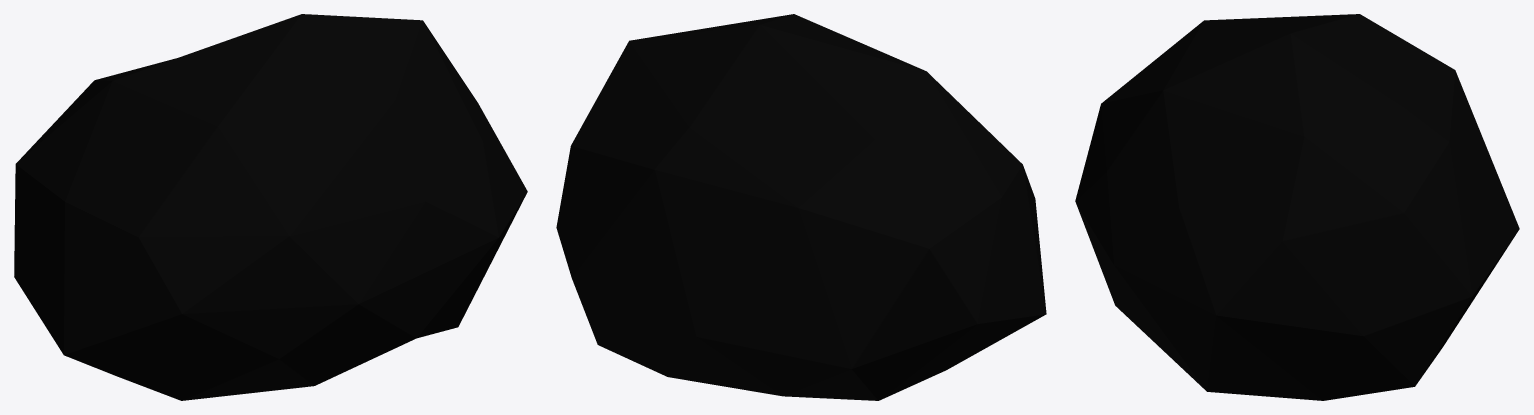
File: bush_small.fbx
3 renders of one model, left to right at view 1: azimuth 30°, elevation 25°; view 2: azimuth 150°, elevation 25°; view 3: azimuth 270°, elevation 25°, orthographic. The views are drawn at different scales.
Visible parts, largest first — view 1: bush_small; view 2: bush_small; view 3: bush_small.
Boxes of the visible parts, x1=… form: bush_small: x1=14, y1=14, x2=527, y2=400; bush_small: x1=556, y1=14, x2=1046, y2=400; bush_small: x1=1075, y1=14, x2=1519, y2=400.
Bounding box in the file's own units: 49.44 × 32.55 × 42.65.
